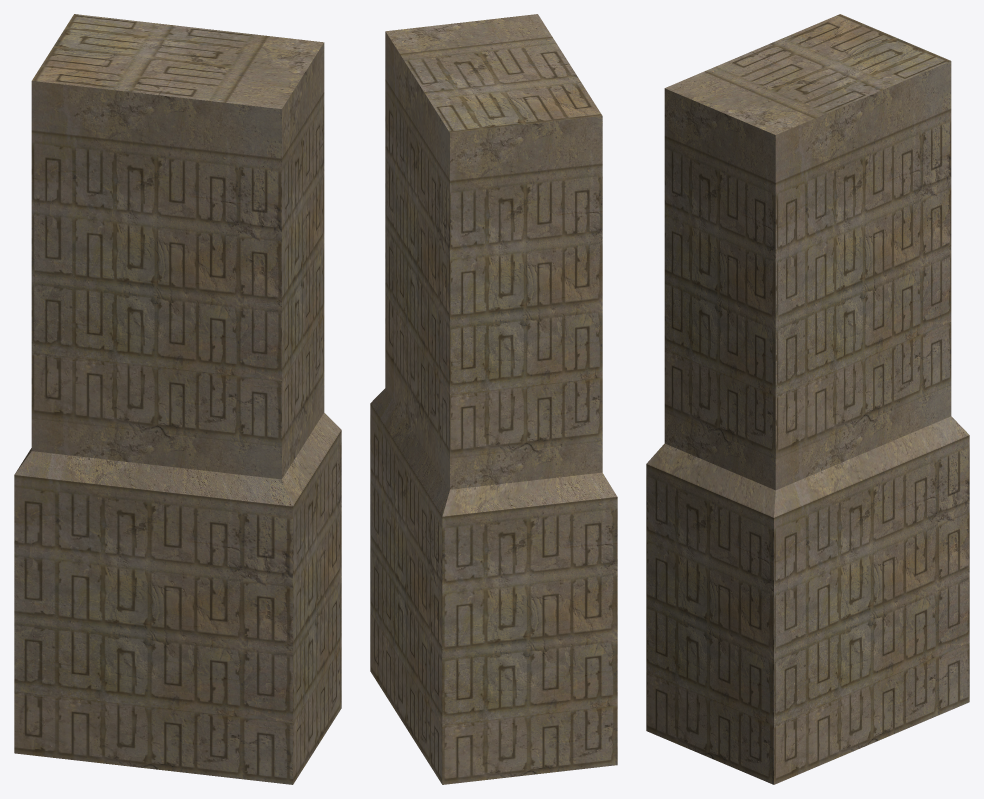
The model's file is colonne_salle1.FBX.
The picture shows the model from 3 angles, left to right: view 1: azimuth 30°, elevation 25°; view 2: azimuth 150°, elevation 25°; view 3: azimuth 270°, elevation 25°; orthographic projection. The views are drawn at different scales.
Visible parts, largest first — view 1: colonne_salle1; view 2: colonne_salle1; view 3: colonne_salle1.
Boxes of the visible parts, left/top/right/bottom form: colonne_salle1: left=14, top=14, right=341, bottom=784; colonne_salle1: left=370, top=14, right=617, bottom=784; colonne_salle1: left=646, top=14, right=969, bottom=784.
Bounding box in the file's own units: 126 × 276 × 126.
Materials: 1 (1 with a texture image).
